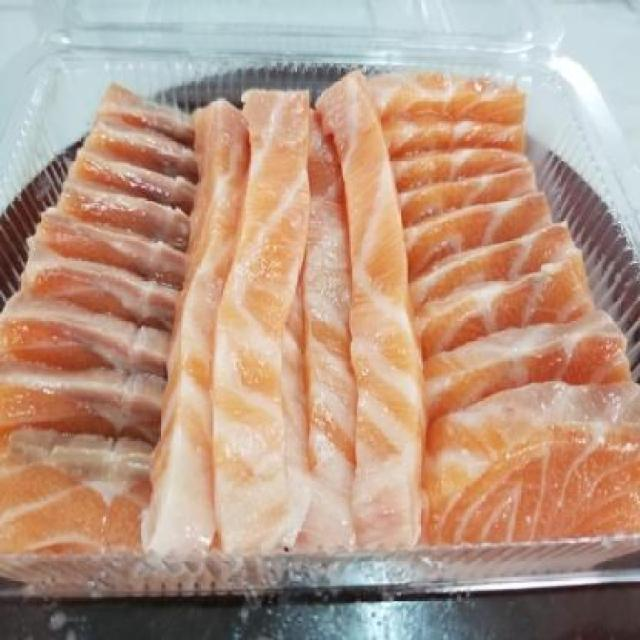salmon: (2, 39, 639, 593)
